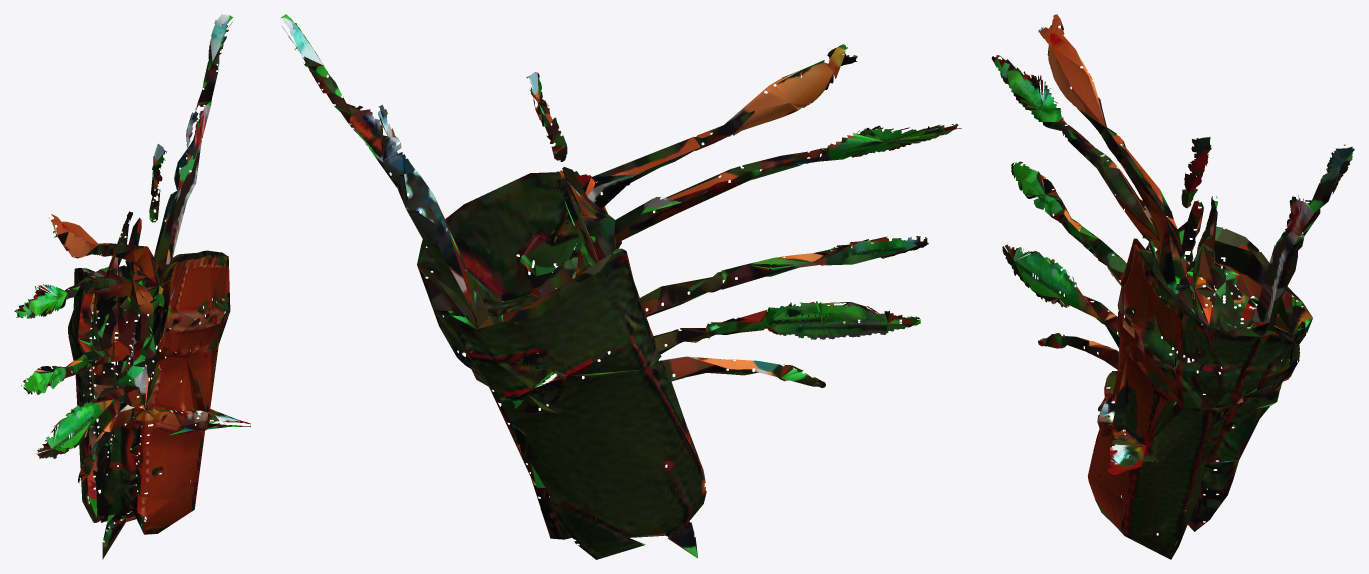
Rendered from Arrow_Bundle.glb.
The picture shows the model from 3 angles, left to right: view 1: azimuth 30°, elevation 25°; view 2: azimuth 150°, elevation 25°; view 3: azimuth 270°, elevation 25°; orthographic projection. The views are drawn at different scales.
Visible parts, largest first — view 1: temp_mesh.ply; view 2: temp_mesh.ply; view 3: temp_mesh.ply.
Part boxes in pixels (box(x1,y1,x2,y2)): temp_mesh.ply: box(14, 14, 250, 559); temp_mesh.ply: box(281, 14, 961, 559); temp_mesh.ply: box(991, 14, 1354, 559).
Bounding box in the file's own units: 0.6777 × 0.75 × 0.4966.
1 material, 1 textured.
